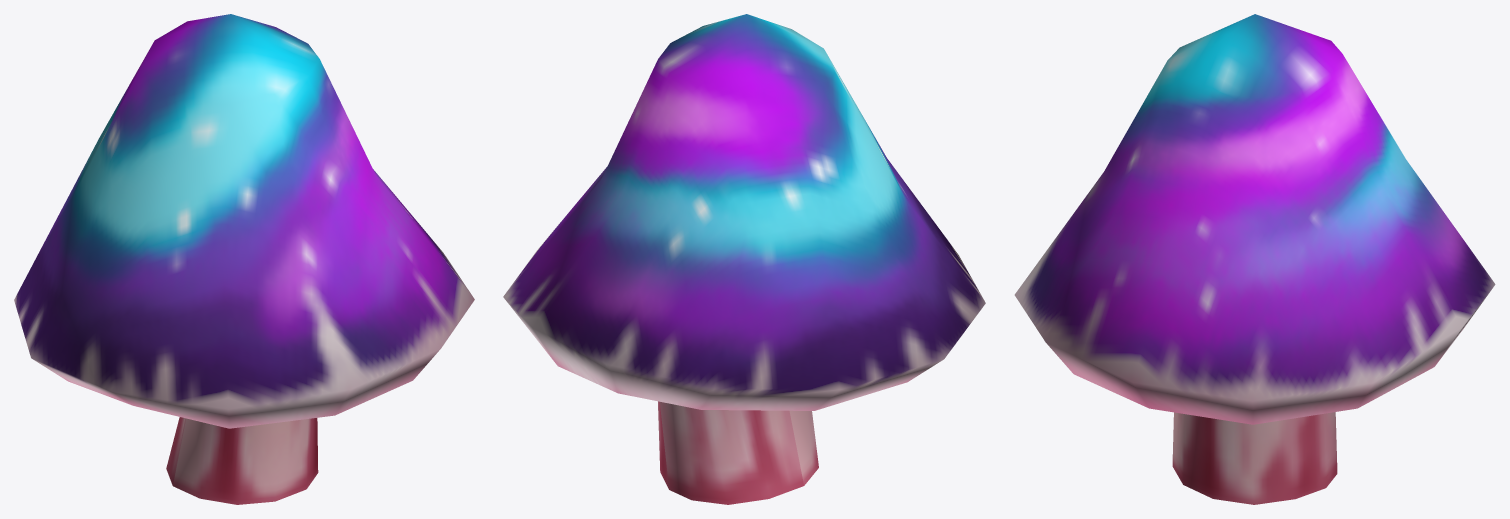
Rendered from SM_ENV_PLANT_shroom_v3_03.fbx.
3 views of the same model, side by side, from view 1: azimuth 30°, elevation 25°; view 2: azimuth 150°, elevation 25°; view 3: azimuth 270°, elevation 25° (orthographic).
Parts seen in each view (by area): view 1: SM_ENV_PLANT_shroom_v3_03; view 2: SM_ENV_PLANT_shroom_v3_03; view 3: SM_ENV_PLANT_shroom_v3_03.
Boxes of the visible parts, x1,y1,x2,y2 form: SM_ENV_PLANT_shroom_v3_03: (14, 14, 474, 504); SM_ENV_PLANT_shroom_v3_03: (503, 14, 985, 504); SM_ENV_PLANT_shroom_v3_03: (1014, 14, 1495, 504).
Size of the model in its own units: 68.39 by 73.7 by 70.44.
Materials: 1 (1 with a texture image).
